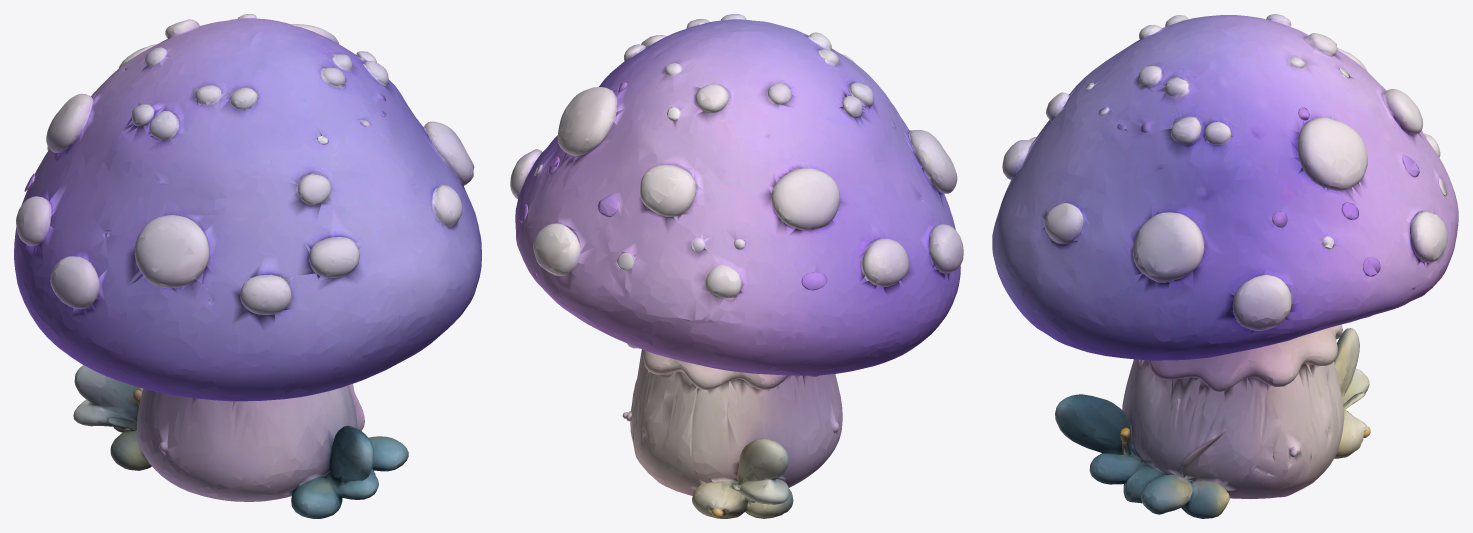
The model's file is mushroom.glb.
The picture shows the model from 3 angles, left to right: view 1: azimuth 30°, elevation 25°; view 2: azimuth 150°, elevation 25°; view 3: azimuth 270°, elevation 25°; orthographic projection. The views are drawn at different scales.
Parts seen in each view (by area): view 1: mushroom; view 2: mushroom; view 3: mushroom.
Boxes of the visible parts, bbox=[...] form: mushroom: bbox=[14, 14, 481, 518]; mushroom: bbox=[510, 14, 963, 518]; mushroom: bbox=[992, 14, 1458, 518].
Size of the model in its own units: 0.9655 by 0.9812 by 0.9307.
1 material, 1 textured.
